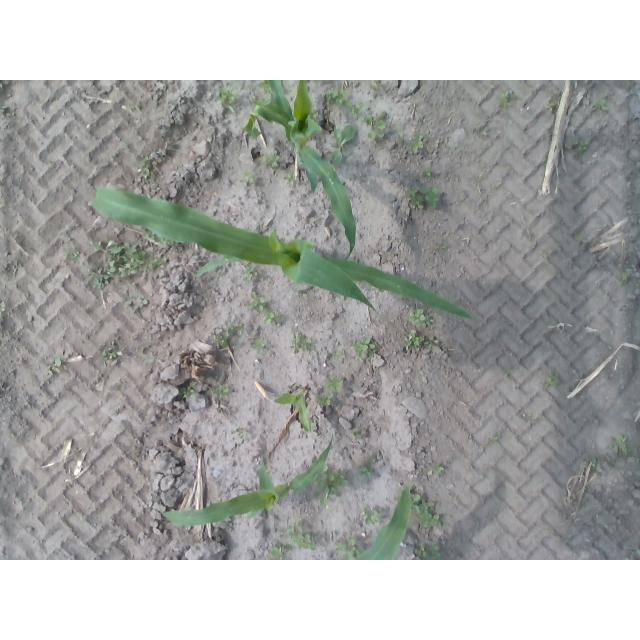Maize: (92, 186, 473, 321), (242, 80, 355, 261), (160, 433, 333, 527), (356, 485, 412, 560), (275, 393, 313, 436)
Weeds: (89, 237, 170, 291), (316, 463, 350, 506), (326, 89, 365, 120), (413, 493, 444, 528), (284, 520, 319, 551), (405, 184, 441, 211), (333, 124, 356, 166), (214, 323, 244, 348), (403, 331, 441, 350), (333, 537, 364, 560), (412, 540, 441, 561), (367, 109, 387, 139), (123, 295, 149, 318), (609, 434, 632, 459), (353, 336, 376, 361), (219, 86, 238, 115), (408, 308, 436, 327), (291, 332, 314, 355), (100, 346, 123, 367), (269, 540, 292, 560), (543, 370, 562, 393), (408, 129, 426, 153), (565, 137, 592, 153), (360, 454, 377, 479), (178, 380, 198, 401), (247, 291, 266, 313), (360, 507, 381, 526), (65, 246, 84, 266), (137, 156, 155, 177), (499, 90, 518, 109), (48, 358, 68, 376), (249, 337, 269, 354), (324, 374, 344, 390), (394, 121, 407, 145), (370, 80, 387, 98), (315, 391, 334, 407), (434, 238, 448, 259), (214, 384, 231, 401), (263, 152, 281, 168), (242, 266, 259, 282), (543, 99, 561, 114), (263, 311, 281, 326), (255, 81, 274, 94), (243, 171, 260, 185), (284, 171, 298, 186), (229, 427, 246, 439), (112, 378, 129, 390), (428, 464, 444, 476), (333, 347, 346, 361), (617, 273, 629, 288), (294, 289, 311, 299), (596, 99, 609, 112), (141, 229, 156, 240), (423, 167, 434, 180), (576, 234, 588, 245), (0, 80, 12, 90), (506, 367, 515, 379), (482, 126, 490, 139), (539, 250, 549, 260), (490, 436, 501, 445), (590, 455, 598, 467), (354, 431, 362, 443), (83, 100, 93, 109), (552, 90, 561, 99), (523, 412, 533, 420), (0, 103, 6, 113), (604, 454, 610, 463), (0, 203, 4, 209)
